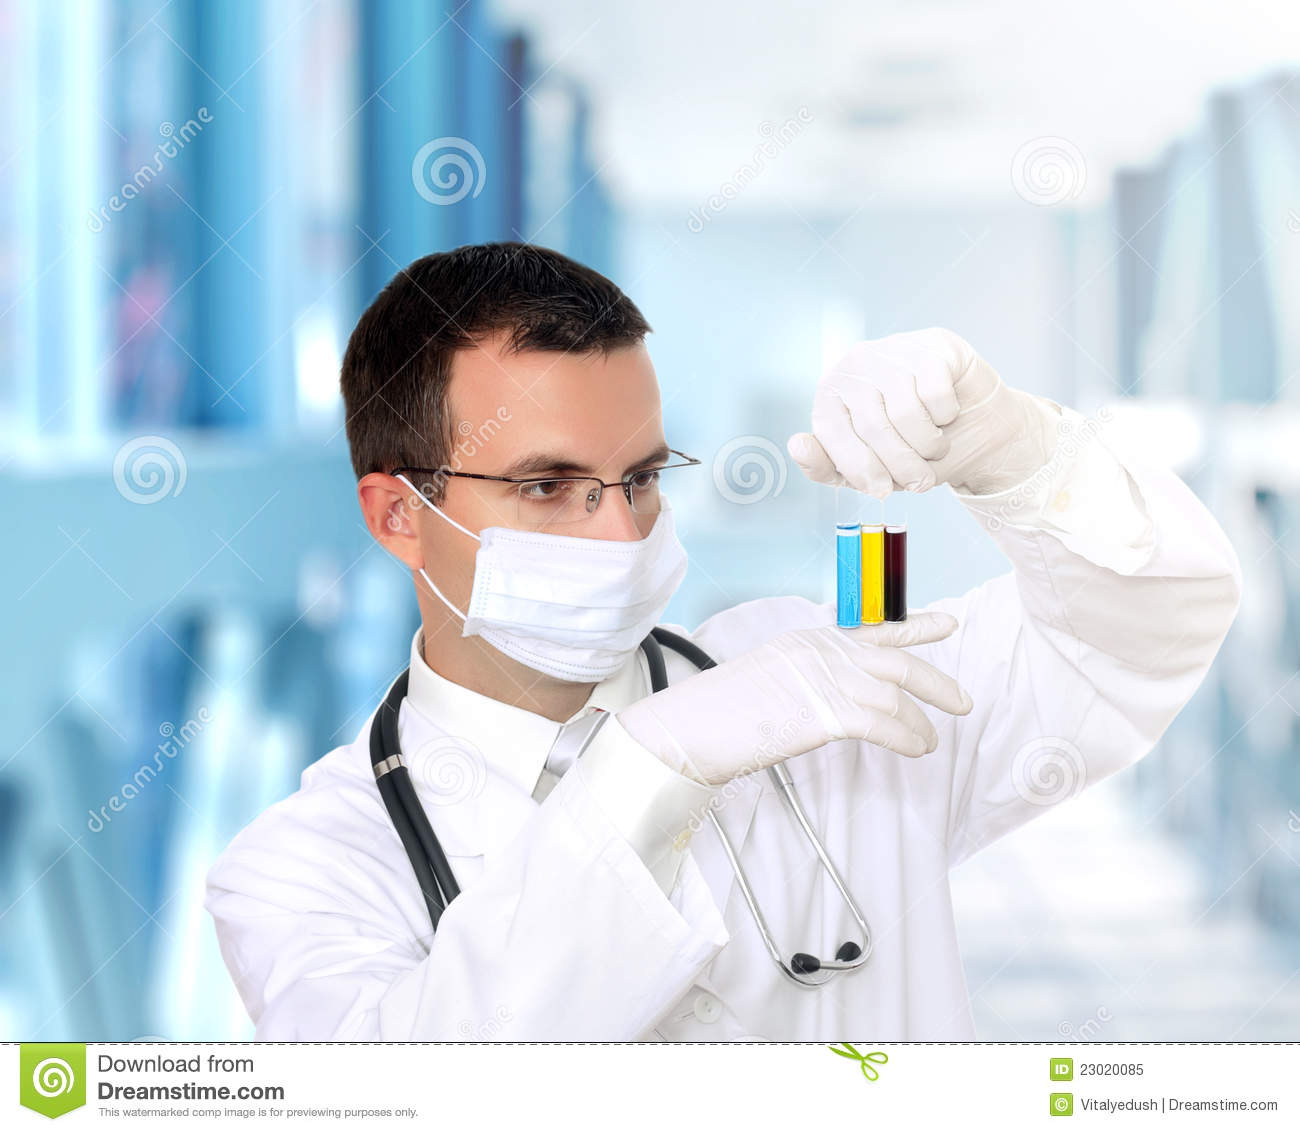mask: (465, 509, 707, 690)
